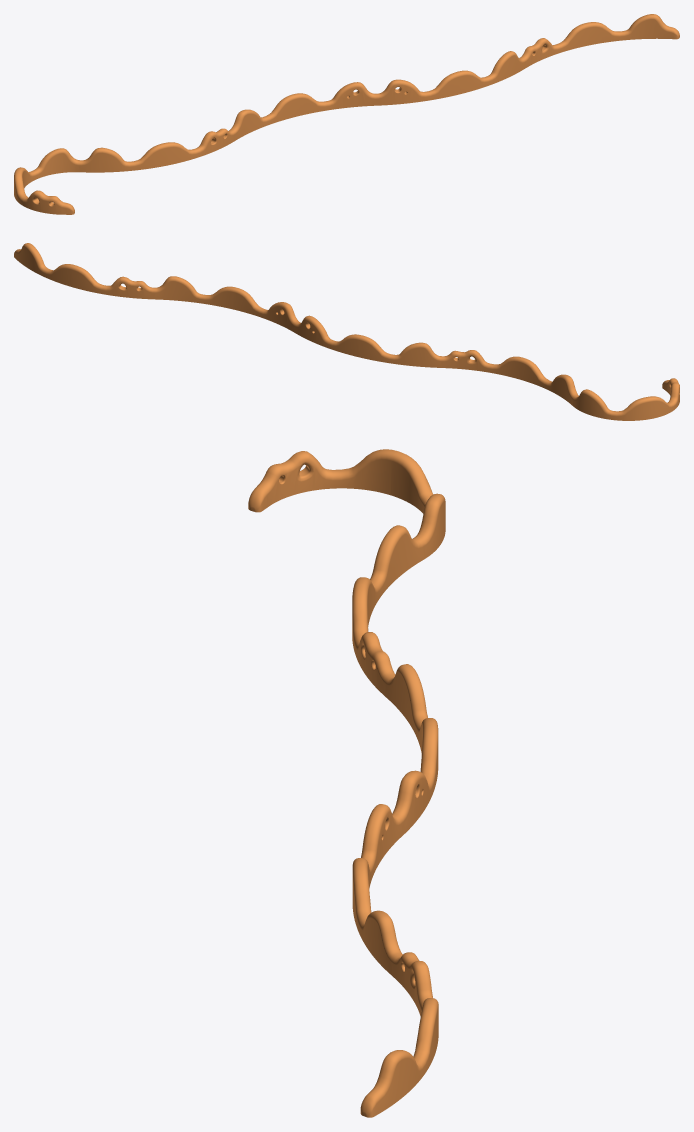
File: c1_wall.fbx
3 views of the same model, one above another, from view 1: azimuth 30°, elevation 25°; view 2: azimuth 150°, elevation 25°; view 3: azimuth 270°, elevation 25° (orthographic). The views are drawn at different scales.
Visible parts, largest first — view 1: c1_wall; view 2: c1_wall; view 3: c1_wall.
Part boxes in pixels (x1,y1,x2,y2): c1_wall: (14, 14, 679, 214); c1_wall: (14, 243, 679, 420); c1_wall: (248, 449, 445, 1117).
Size of the model in its own units: 9781 by 315 by 1281.
